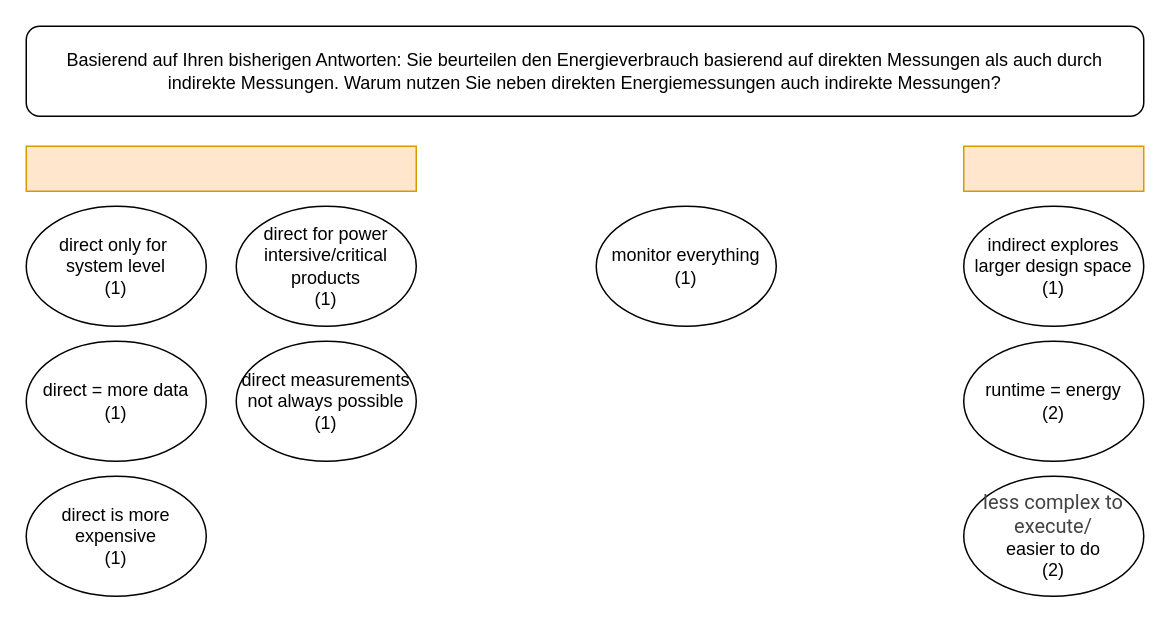
This 1170x623 diagram has some shape labels left out. Here are the shapes that lost their labels. From the top down, the box of each, then its label:
(25, 145, 416, 191): direct
(962, 145, 1144, 191): indirect
